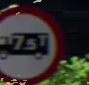Heavy Vehicles: (0, 4, 64, 82)
